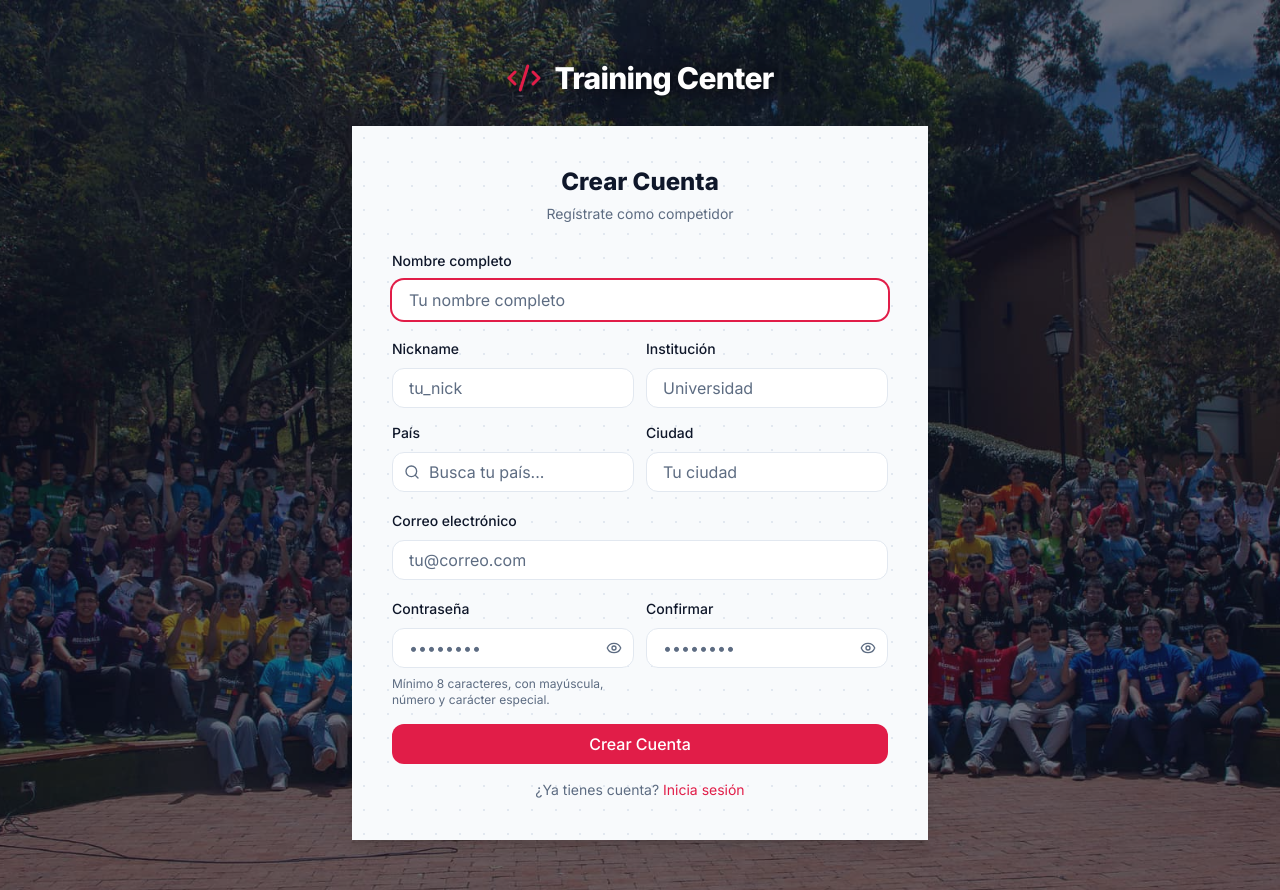
Test: RegisterPage › shows validation error when passwords do not match
This screenshot has width=1280, height=890.
Note: Act — fill required fields but use mismatched passwords
Step 1. Type "test@test.com" into the field labelled "Correo electrónico" → (640, 560), box x1=392 y1=540 x2=888 y2=580
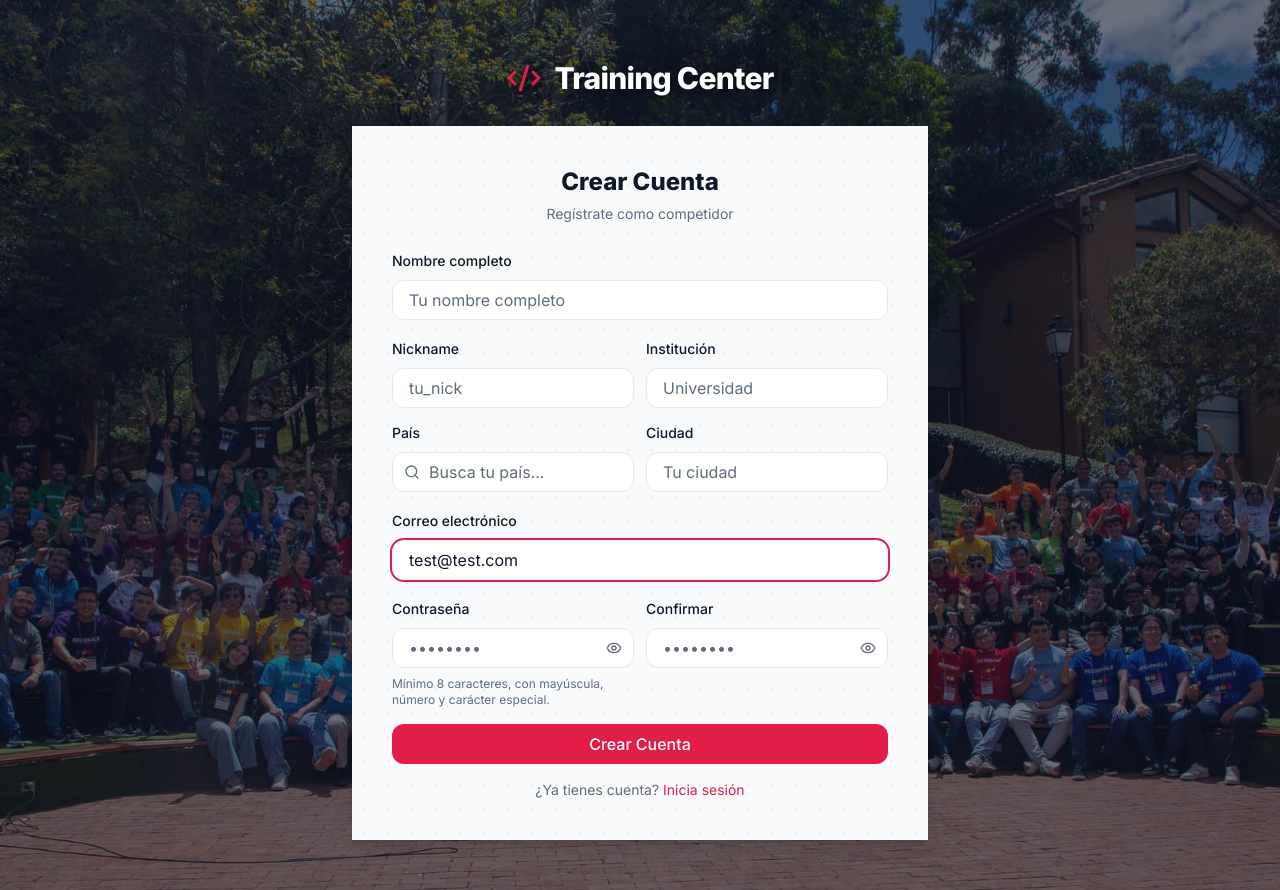
Step 2. Type "Password1!" into the password field labelled "Contraseña" → (513, 648), box x1=392 y1=628 x2=634 y2=668
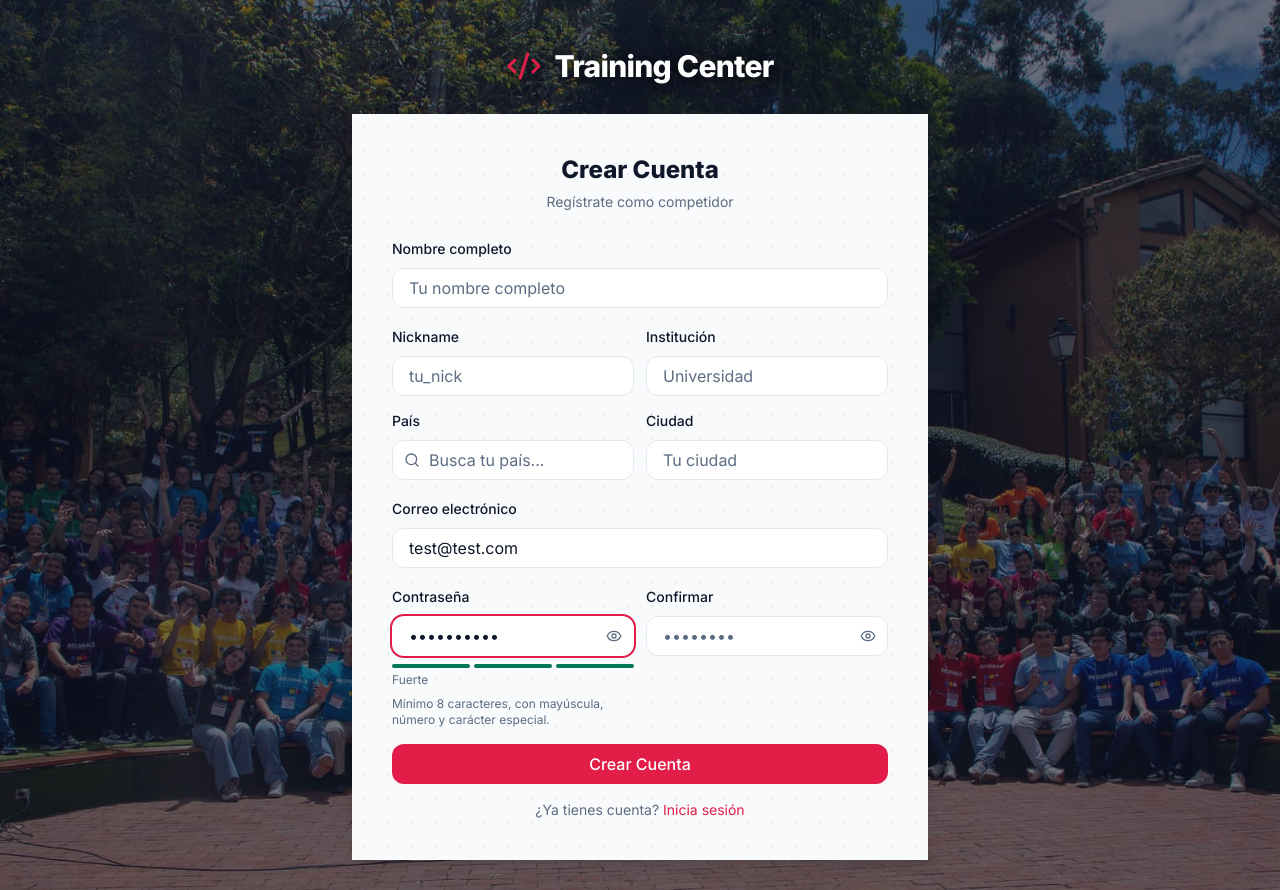
Step 3. Type "OtraPassword1!" into the password field labelled "Confirmar" → (767, 636), box x1=646 y1=616 x2=888 y2=656
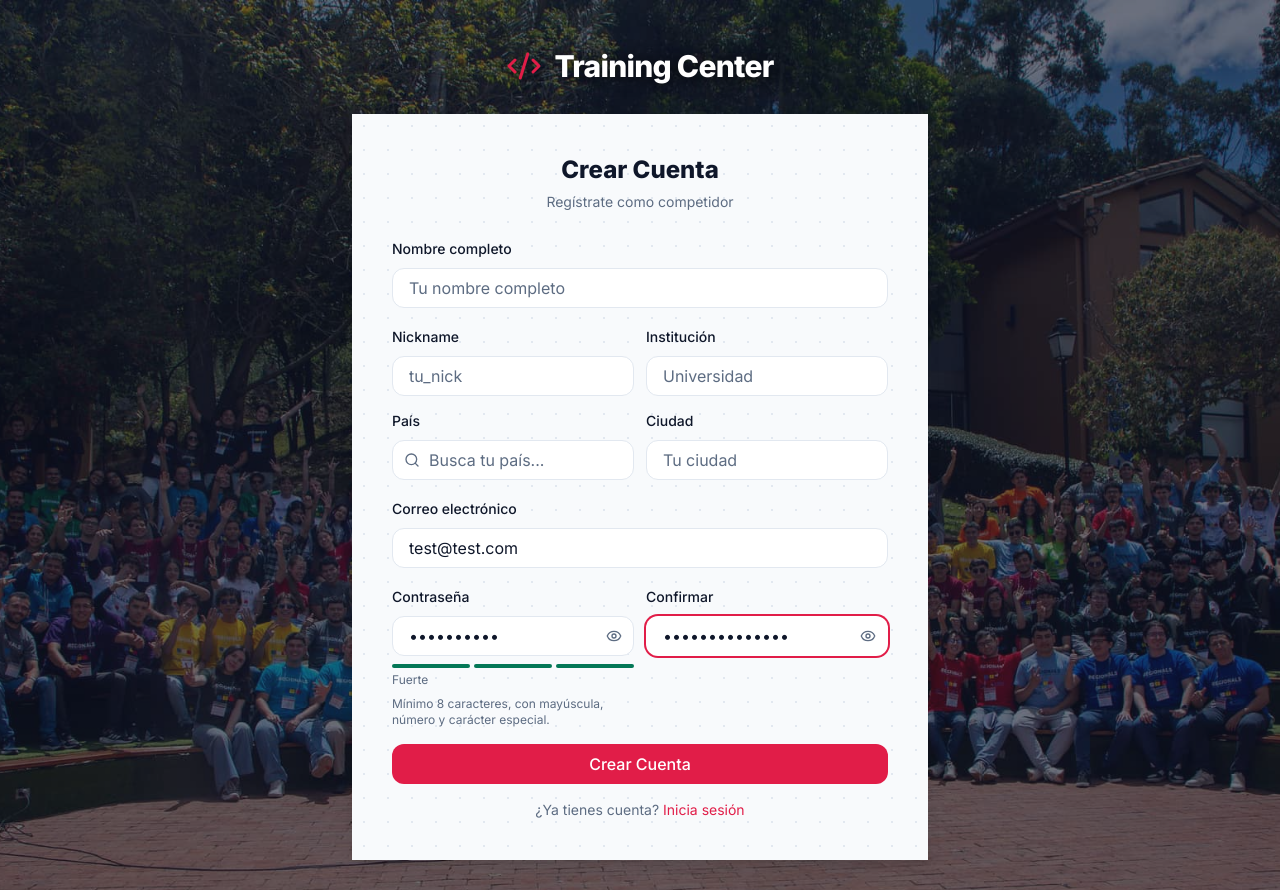
Step 4. Click the button "Crear Cuenta" → (640, 764), box x1=392 y1=744 x2=888 y2=784
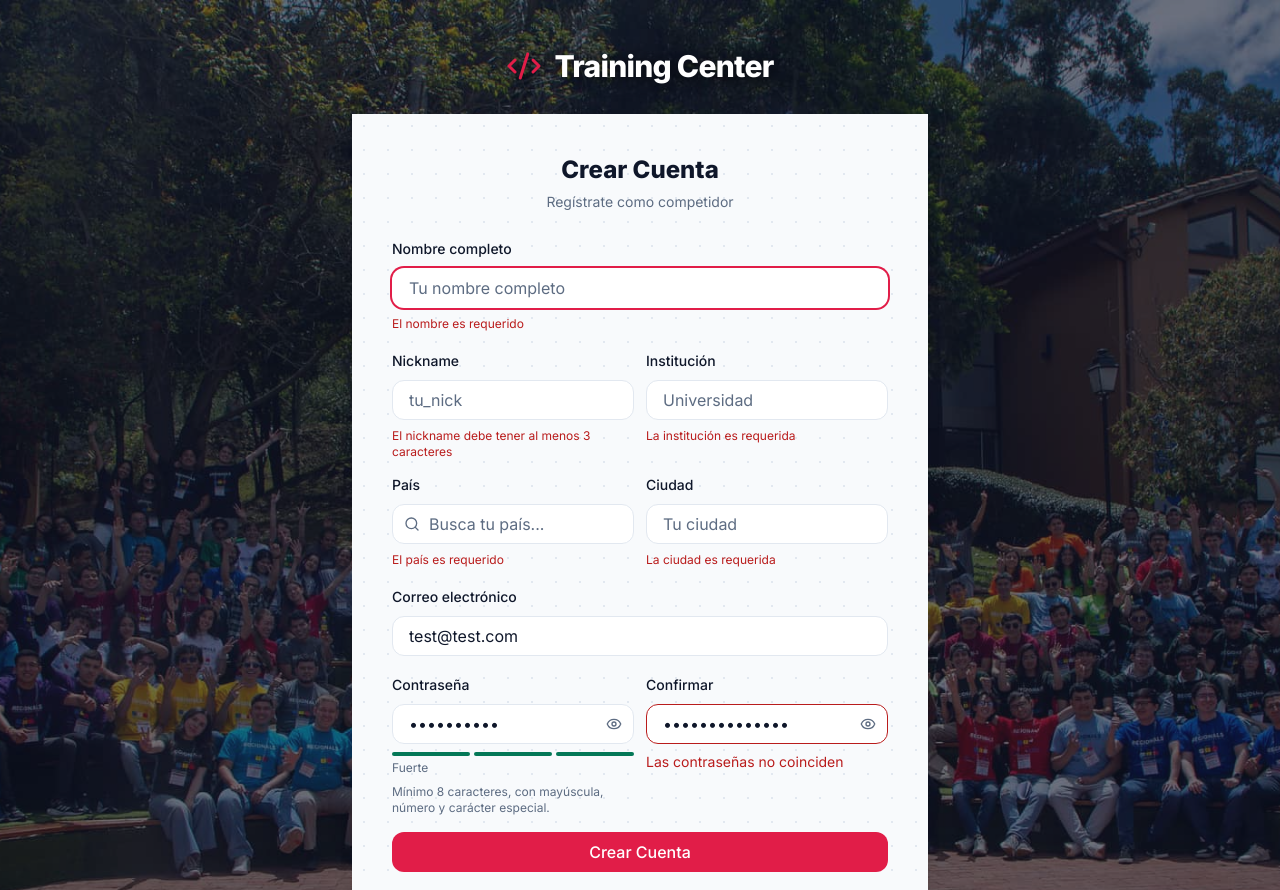
expect the text "Las contraseñas no coinciden" is shown: met, box x1=646 y1=753 x2=844 y2=770
